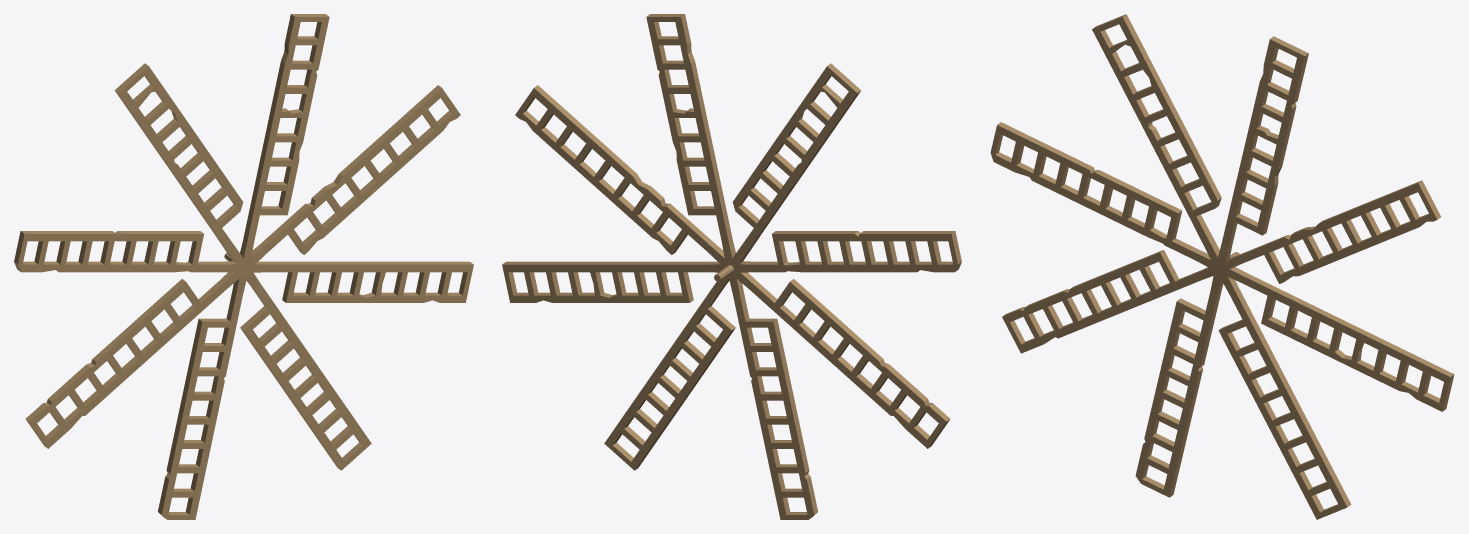
The model's file is TowerWindmillBlades.fbx.
The picture shows the model from 3 angles, left to right: view 1: azimuth 30°, elevation 25°; view 2: azimuth 150°, elevation 25°; view 3: azimuth 330°, elevation 25°; orthographic projection.
Visible parts, largest first — view 1: TowerWindmill_Blades; view 2: TowerWindmill_Blades; view 3: TowerWindmill_Blades.
Part boxes in pixels (x1,y1,x2,y2): TowerWindmill_Blades: [14, 14, 473, 519]; TowerWindmill_Blades: [502, 14, 961, 519]; TowerWindmill_Blades: [990, 14, 1454, 519].
Size of the model in its own units: 792 by 795 by 52.83.
